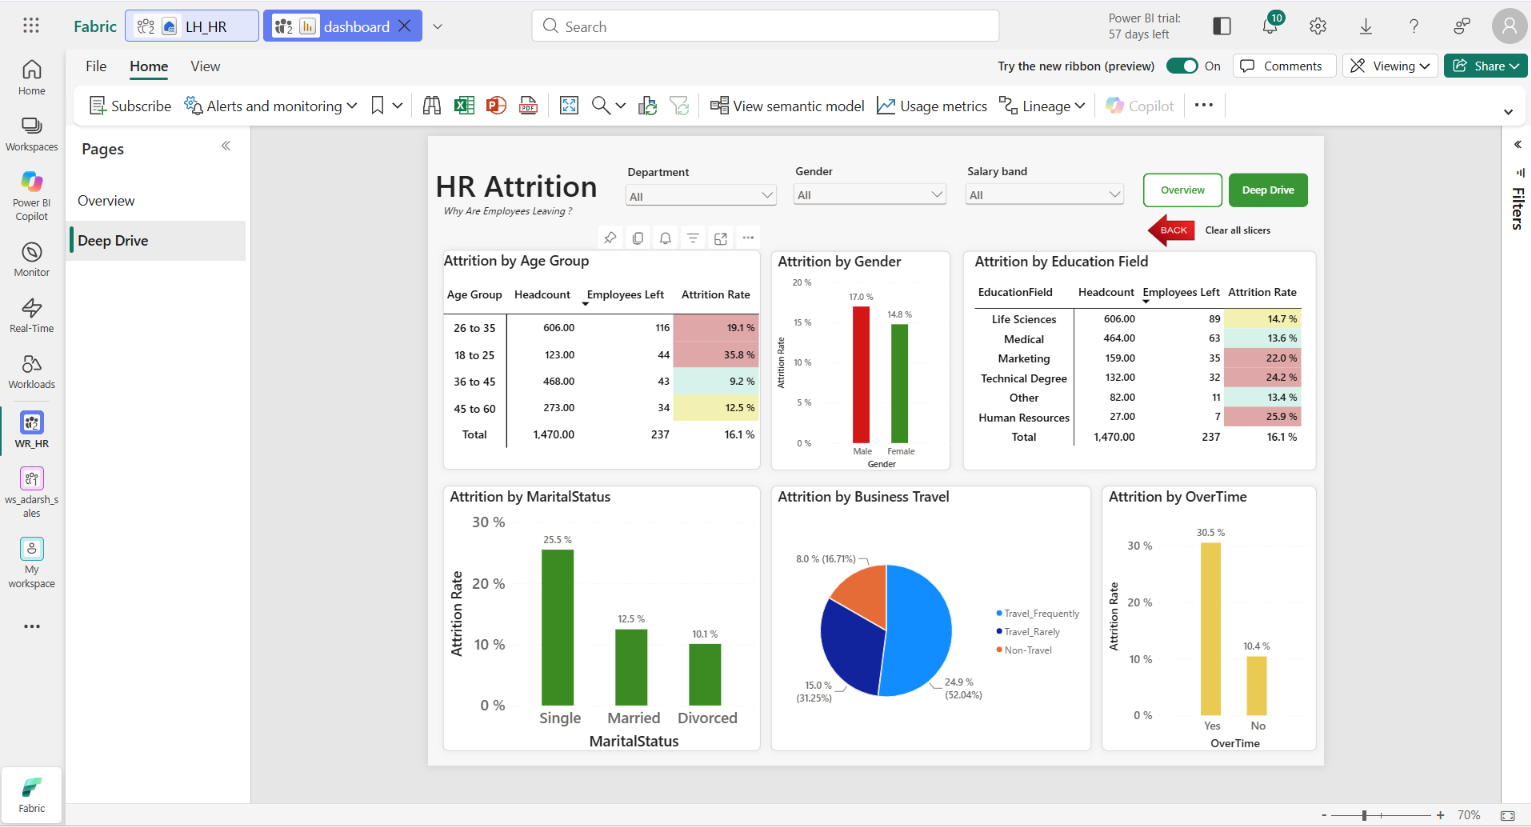

This screenshot's page, from the dashboard's own definition file:
{"tool":"powerbi","page":{"name":"Deep Drive","canvas":[1280,900],"ordinal":1},"visuals":[{"type":"textbox","box":[9.6,39.8,279.9,74.1],"z":0},{"type":"textbox","box":[22,96.1,279.9,37],"z":1000},{"type":"slicer","fields":{"Values":["HR-Employees.Department"]},"box":[277.2,39.8,226.4,74.1],"z":2000},{"type":"slicer","fields":{"Values":["HR-Employees.Gender"]},"box":[517.3,38.4,229.2,74.1],"z":3000},{"type":"slicer","fields":{"Values":["HR-Employees.Salary band"]},"box":[763,38.4,237.4,72.7],"z":4000},{"type":"actionButton","box":[1057.5,108.8,200,50],"z":5000},{"type":"pageNavigator","box":[1020.9,52.1,236,49.4],"z":6000},{"type":"pivotTable","title":"Attrition by Age Group","fields":{"Rows":["HR-Employees.Age Group"],"Values":["HR-Employees.Headcount","HR-Employees.Employees Left","HR-Employees.Attrition Rate"]},"box":[21.7,163.3,453.3,313.3],"z":7000},{"type":"columnChart","title":"Attrition by Gender","fields":{"Category":["HR-Employees.Gender"],"Y":["HR-Employees.Attrition Rate"]},"box":[490,163.8,256.2,313.8],"z":8000},{"type":"pivotTable","title":"Attrition by Education Field","fields":{"Rows":["HR-Employees.EducationField"],"Values":["HR-Employees.Headcount","HR-Employees.Employees Left","HR-Employees.Attrition Rate"]},"box":[763.8,163.8,505,313.8],"z":9000},{"type":"columnChart","title":"Attrition  by MaritalStatus","fields":{"Category":["HR-Employees.MaritalStatus"],"Y":["HR-Employees.Attrition Rate"]},"box":[21.2,500,453.8,378.8],"z":10000},{"type":"pieChart","title":"Attrition  by Business Travel","fields":{"Category":["HR-Employees.BusinessTravel"],"Y":["HR-Employees.Attrition Rate"]},"box":[490,500,457.5,378.8],"z":10001},{"type":"columnChart","title":"Attrition by OverTime","fields":{"Category":["HR-Employees.OverTime"],"Y":["HR-Employees.Attrition Rate"]},"box":[962.5,500,306.2,378.8],"z":10002},{"type":"image","box":[1000,111.4,122.9,47.1],"z":10003}]}

Visuals, with their boxes on the page's 1280x900 design canvas (x1, y1, x2, y2). These are canvas units, not pixel positions in the 1531x827 screenshot, which may show the page scaled, cropped or inside an application window:
textbox: crop(10, 40, 290, 114)
textbox: crop(22, 96, 302, 133)
slicer - HR-Employees.Department: crop(277, 40, 504, 114)
slicer - HR-Employees.Gender: crop(517, 38, 746, 112)
slicer - HR-Employees.Salary band: crop(763, 38, 1000, 111)
actionButton: crop(1058, 109, 1258, 159)
pageNavigator: crop(1021, 52, 1257, 102)
"Attrition by Age Group" pivotTable: crop(22, 163, 475, 477)
"Attrition by Gender" columnChart: crop(490, 164, 746, 478)
"Attrition by Education Field" pivotTable: crop(764, 164, 1269, 478)
"Attrition  by MaritalStatus" columnChart: crop(21, 500, 475, 879)
"Attrition  by Business Travel" pieChart: crop(490, 500, 948, 879)
"Attrition by OverTime" columnChart: crop(962, 500, 1269, 879)
image: crop(1000, 111, 1123, 158)
